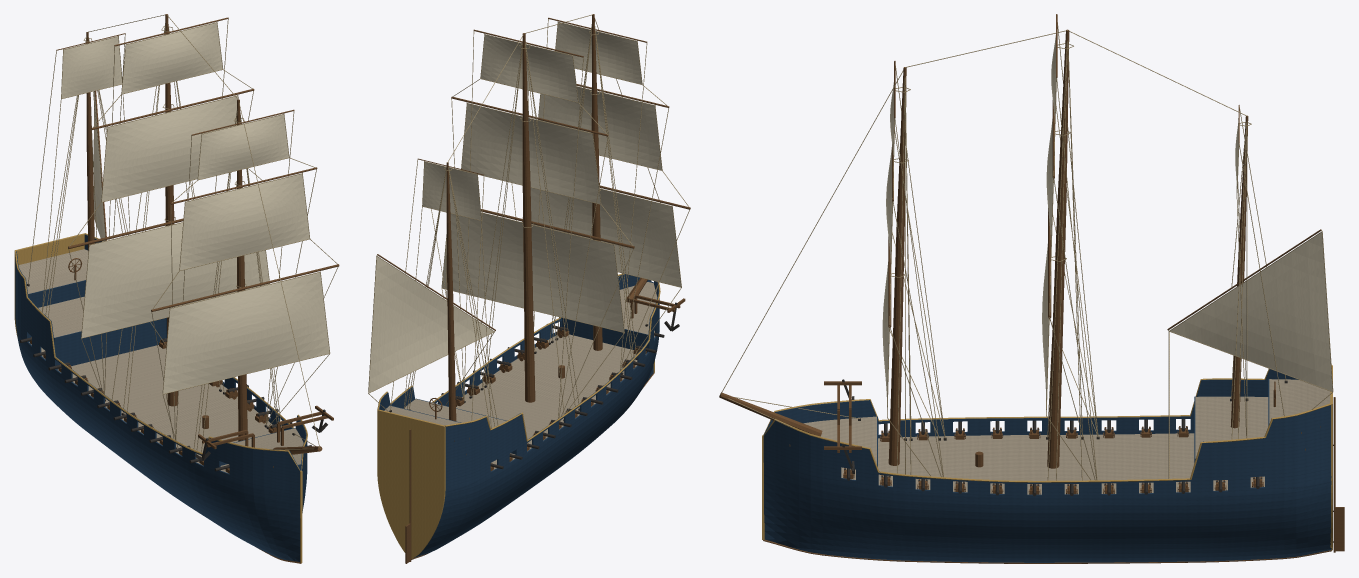
3 views of the same model, side by side, from view 1: azimuth 30°, elevation 25°; view 2: azimuth 150°, elevation 25°; view 3: azimuth 270°, elevation 25° (orthographic). The views are drawn at different scales.
Parts seen in each view (by area): view 1: lod1_hull_shell_starboard, lod1_fore_square_00, lod1_main_square_00, lod1_main_deck, lod1_fore_square_01, lod1_main_square_01, lod1_main_square_02, lod1_fore_square_02, lod1_castle_bulkhead_1_1, lod1_mizzen_square_00, lod1_castle_deck_0, lod1_stern_closure (+12 smaller); view 2: lod1_hull_shell_starboard, lod1_main_square_00, lod1_main_square_01, lod1_main_deck, lod1_mizzen_lateen_01, lod1_stern_closure, lod1_fore_square_00, lod1_fore_square_01, lod1_main_square_02, lod1_fore_square_02, lod1_main, lod1_mizzen_square_00 (+17 smaller); view 3: lod1_hull_shell_port, lod1_main_deck, lod1_mizzen_lateen_01, lod1_hull_shell_starboard, lod1_main, lod1_fore, lod1_castle_deck_1, lod1_castle_deck_0, lod1_gunwale_port, lod1_mizzen, lod1_castle_deck_2, lod1_keel (+2 smaller).
Part boxes in pixels (x1,y1,x2,y2): lod1_hull_shell_starboard: (15, 251, 300, 561); lod1_fore_square_00: (163, 272, 329, 393); lod1_main_square_00: (81, 222, 269, 337); lod1_main_deck: (29, 342, 272, 472); lod1_fore_square_01: (180, 174, 309, 270); lod1_main_square_01: (102, 96, 240, 201); lod1_main_square_02: (122, 23, 222, 93); lod1_fore_square_02: (198, 114, 288, 179); lod1_castle_bulkhead_1_1: (54, 318, 166, 369); lod1_mizzen_square_00: (61, 37, 122, 98); lod1_castle_deck_0: (18, 249, 88, 293); lod1_stern_closure: (14, 233, 84, 337); lod1_hull_shell_starboard: (413, 281, 659, 558); lod1_main_square_00: (442, 213, 624, 332); lod1_main_square_01: (461, 103, 600, 203); lod1_main_deck: (456, 330, 654, 469); lod1_mizzen_lateen_01: (368, 256, 493, 392); lod1_stern_closure: (377, 409, 445, 559); lod1_fore_square_00: (530, 188, 681, 286); lod1_fore_square_01: (538, 87, 661, 170); lod1_main_square_02: (481, 35, 577, 102); lod1_fore_square_02: (555, 22, 641, 84); lod1_main: (522, 33, 535, 402); lod1_mizzen_square_00: (422, 162, 480, 220); lod1_hull_shell_port: (763, 405, 1331, 562); lod1_main_deck: (841, 433, 1264, 494); lod1_mizzen_lateen_01: (1170, 232, 1332, 391); lod1_hull_shell_starboard: (763, 369, 1298, 438); lod1_main: (1047, 29, 1069, 468); lod1_fore: (888, 67, 906, 465); lod1_castle_deck_1: (1195, 396, 1268, 458); lod1_castle_deck_0: (1269, 379, 1330, 423); lod1_gunwale_port: (763, 403, 1331, 482); lod1_mizzen: (1230, 115, 1248, 428); lod1_castle_deck_2: (803, 416, 876, 464); lod1_keel: (763, 539, 1331, 563).
Size of the model in its own units: 19.09 by 40.42 by 42.94.
Materials: 7 (7 with a texture image).
